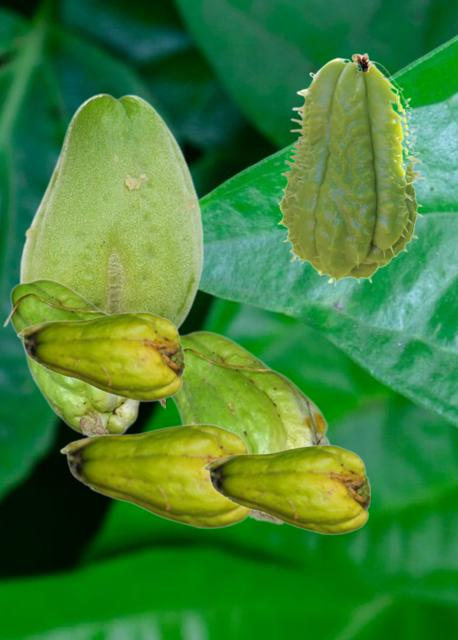sayote: (18, 92, 203, 329), (276, 52, 424, 286), (170, 330, 330, 524), (2, 278, 164, 436), (59, 423, 251, 528), (202, 444, 369, 534), (16, 311, 183, 401)
